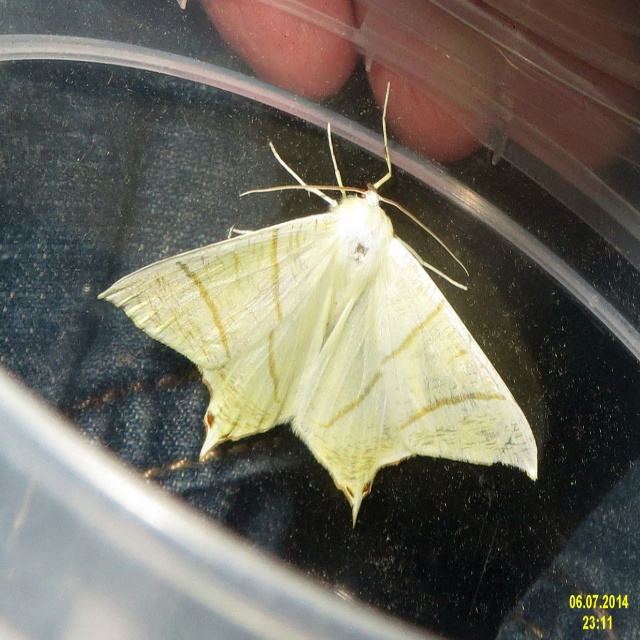Butterfly: (133, 92, 530, 519)
